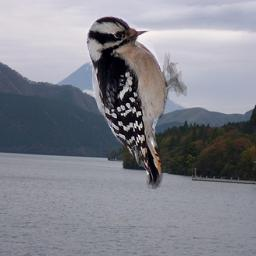Woodpecker: (86, 16, 187, 189)
